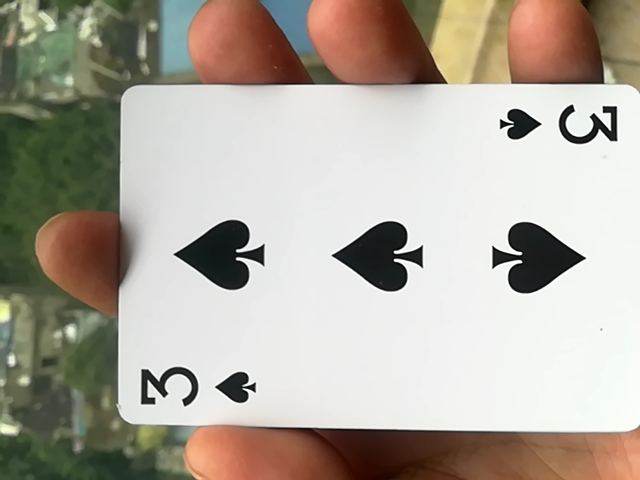ht 3: (100, 93, 636, 456)
